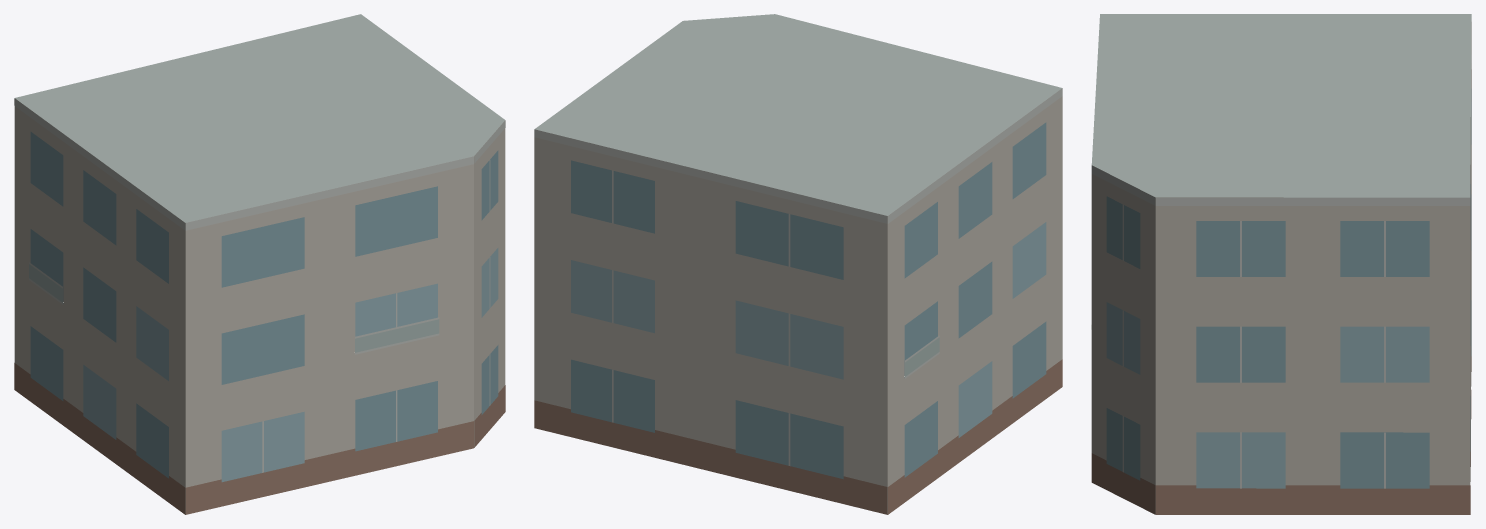
The model's file is survey-upis-33043312.glb.
3 renders of one model, left to right at view 1: azimuth 30°, elevation 25°; view 2: azimuth 150°, elevation 25°; view 3: azimuth 270°, elevation 25°, orthographic. The views are drawn at different scales.
Visible parts, largest first — view 1: survey-upis-33043312.tmp; view 2: survey-upis-33043312.tmp; view 3: survey-upis-33043312.tmp.
Boxes of the visible parts, x1,y1,x2,y2 form: survey-upis-33043312.tmp: [14, 14, 505, 514]; survey-upis-33043312.tmp: [534, 14, 1062, 514]; survey-upis-33043312.tmp: [1091, 14, 1471, 514].
Bounding box in the file's own units: 11.39 × 9.15 × 9.95.
